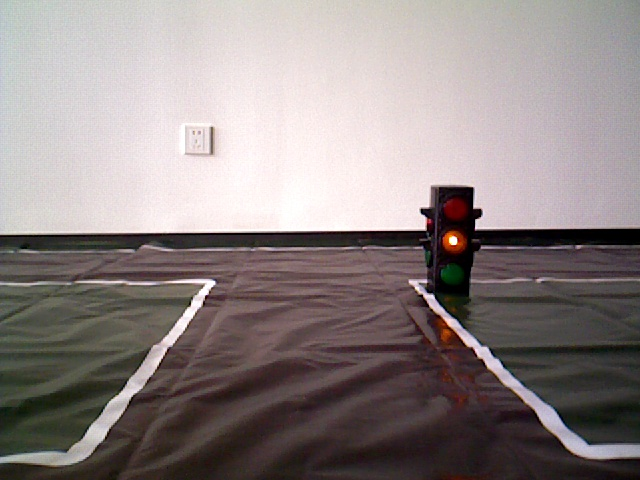yellow: (427, 181, 470, 296)
